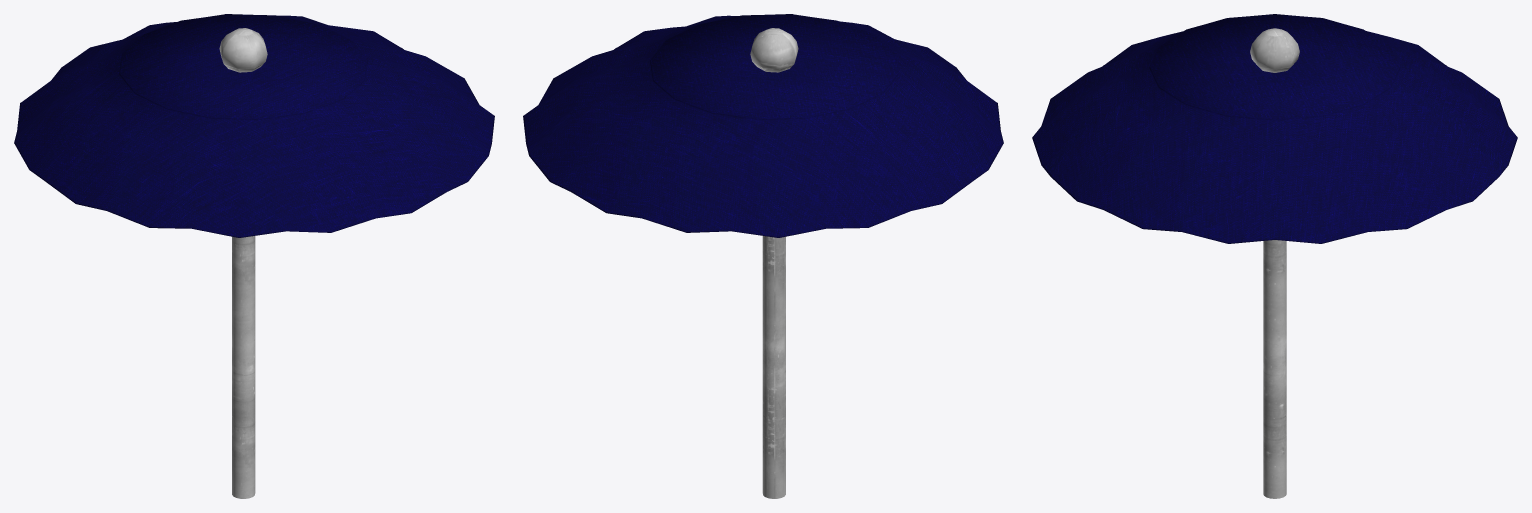
File: Pool_Umbrella.fbx
The picture shows the model from 3 angles, left to right: view 1: azimuth 30°, elevation 25°; view 2: azimuth 150°, elevation 25°; view 3: azimuth 270°, elevation 25°; orthographic projection.
Parts seen in each view (by area): view 1: Umbrella_SM; view 2: Umbrella_SM; view 3: Umbrella_SM.
Part boxes in pixels (x1,y1,x2,y2): Umbrella_SM: [14, 14, 494, 498]; Umbrella_SM: [523, 14, 1003, 498]; Umbrella_SM: [1032, 14, 1517, 498].
Size of the model in its own units: 592 by 625 by 594.
Materials: 2 (2 with a texture image).
